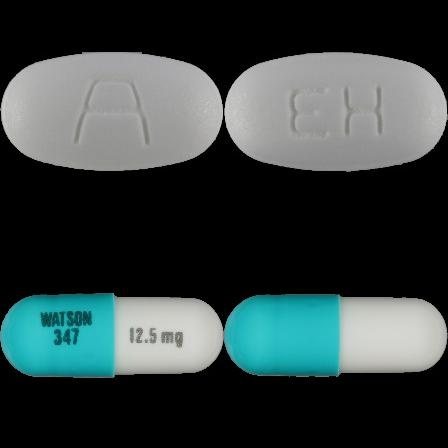55289-525: (0, 0, 224, 224)
